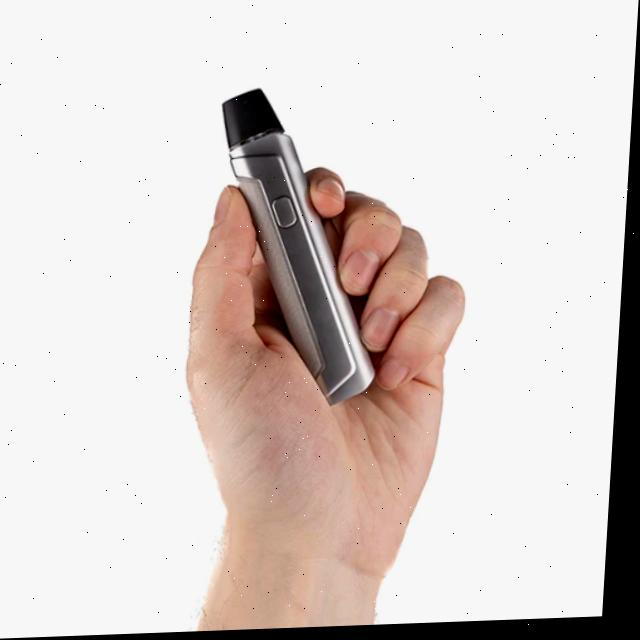vape: (205, 85, 393, 409)
